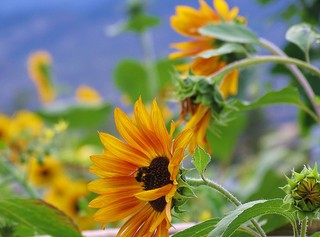flower: (87, 91, 199, 235)
